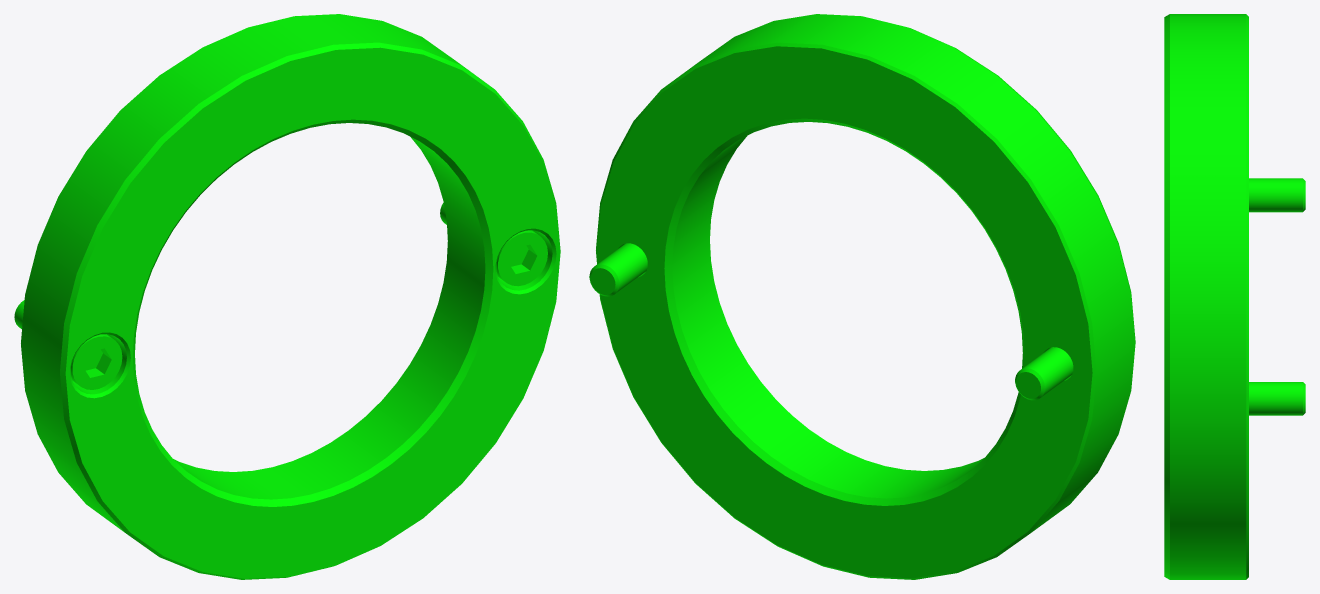
File: ring.glb
The picture shows the model from 3 angles, left to right: view 1: azimuth 30°, elevation 25°; view 2: azimuth 150°, elevation 25°; view 3: azimuth 270°, elevation 25°; orthographic projection. The views are drawn at different scales.
Parts seen in each view (by area): view 1: cardcase_Locate_ring_LRBSF_064, cardcase_shcs_LRBSF_065 (×2); view 2: cardcase_Locate_ring_LRBSF_064, cardcase_shcs_LRBSF_065 (×2); view 3: cardcase_Locate_ring_LRBSF_064, cardcase_shcs_LRBSF_065 (×2).
Part boxes in pixels (x1,y1,x2,y2): cardcase_Locate_ring_LRBSF_064: [21, 14, 560, 579]; cardcase_shcs_LRBSF_065 (×2): [14, 203, 547, 389]; cardcase_Locate_ring_LRBSF_064: [596, 14, 1135, 579]; cardcase_shcs_LRBSF_065 (×2): [589, 243, 1073, 400]; cardcase_Locate_ring_LRBSF_064: [1164, 14, 1248, 579]; cardcase_shcs_LRBSF_065 (×2): [1249, 178, 1305, 415].
Size of the model in its own units: 0.1 by 0.0996 by 0.025.
